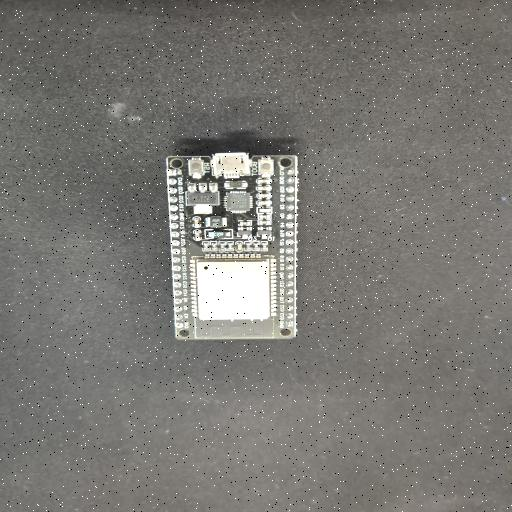esp32-dev: (167, 152, 298, 340)
